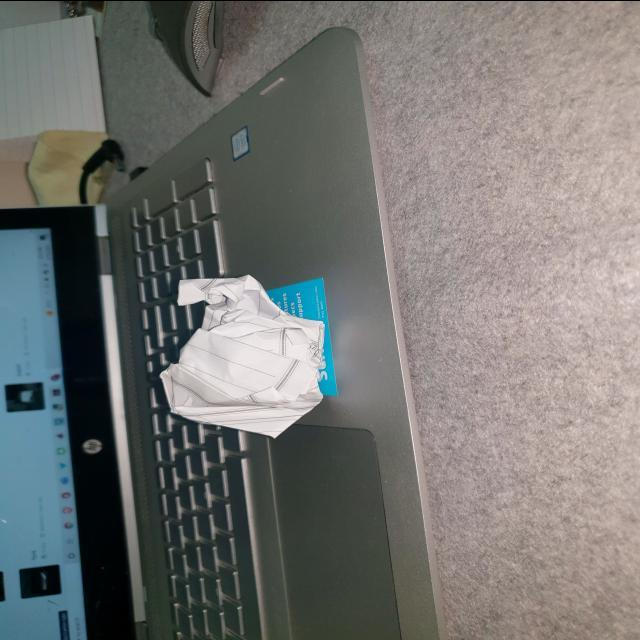Paper: (146, 263, 336, 437)
